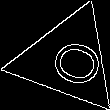O_W: (34, 30, 101, 90)
